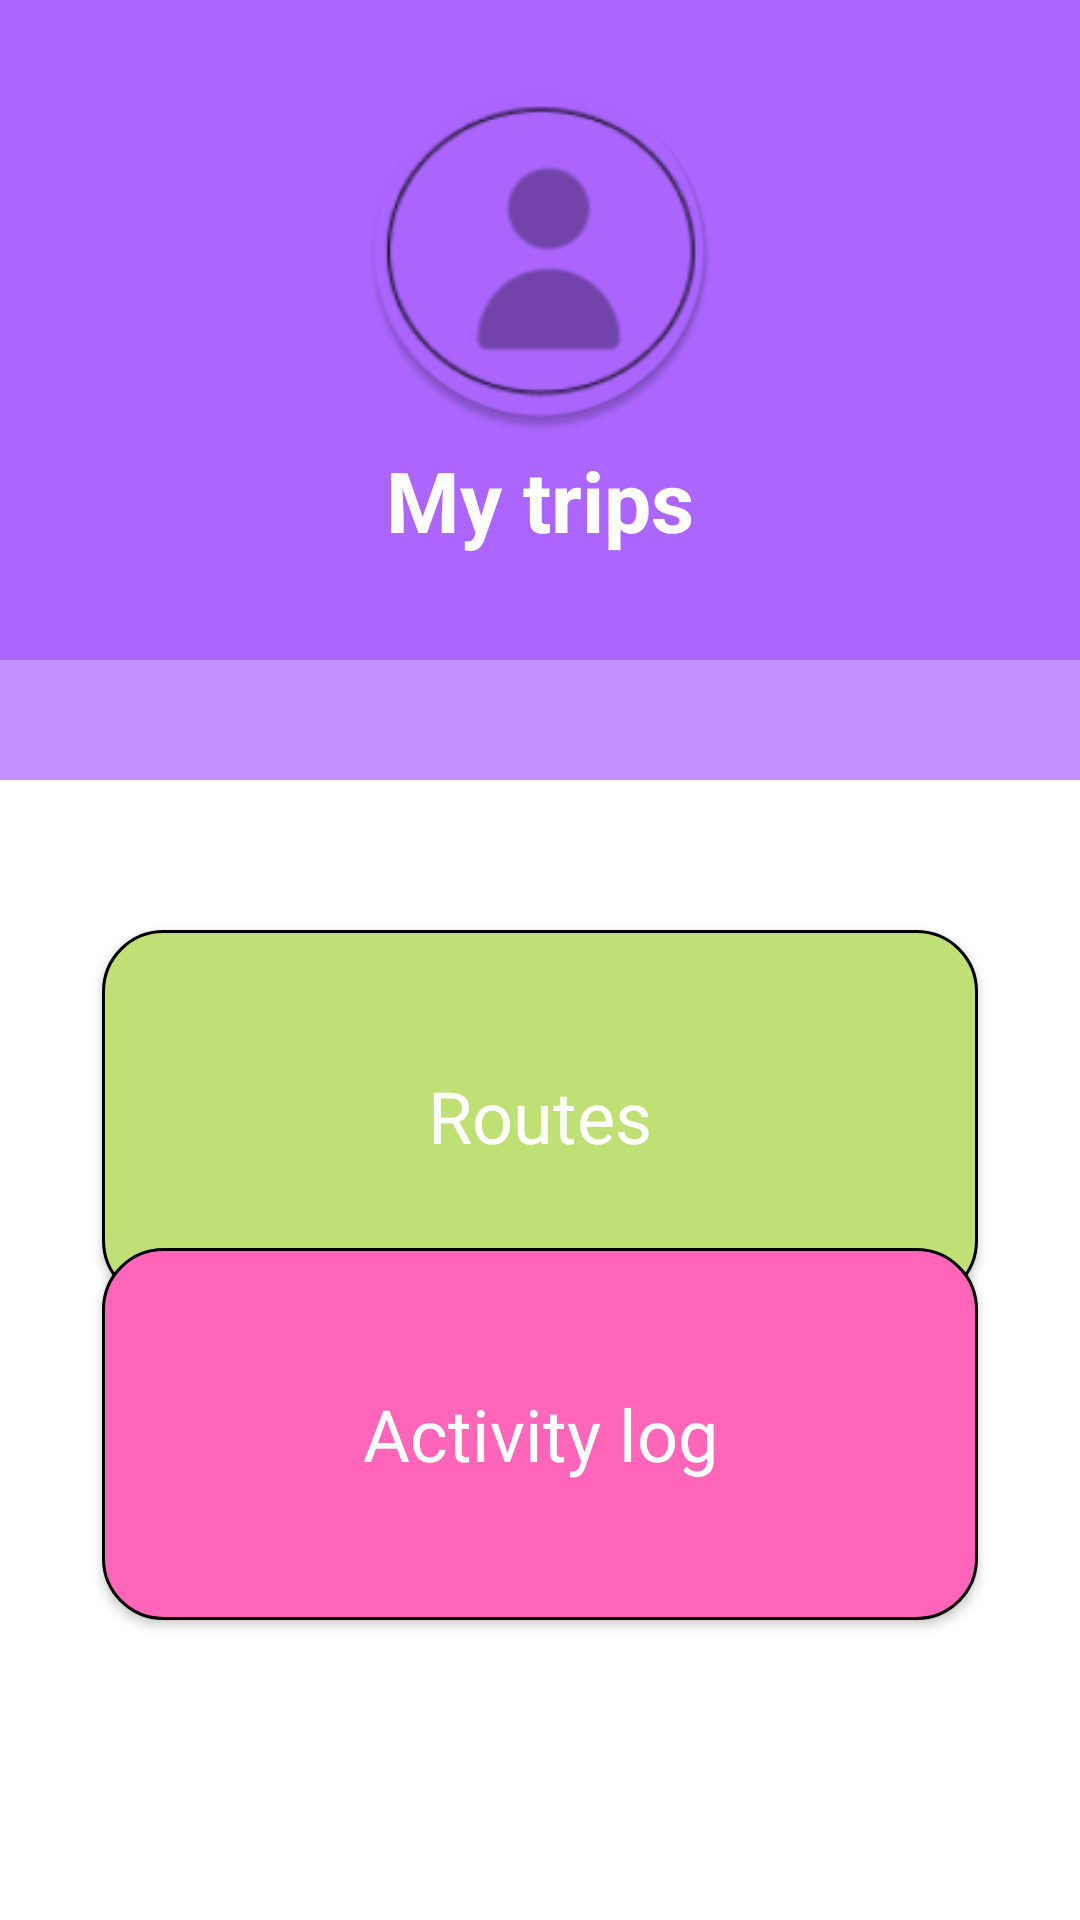

Where to tap for icons on this 1080 × 1920 app screen, as (x=x, y=y):
personal photo round: (x=542, y=266)
